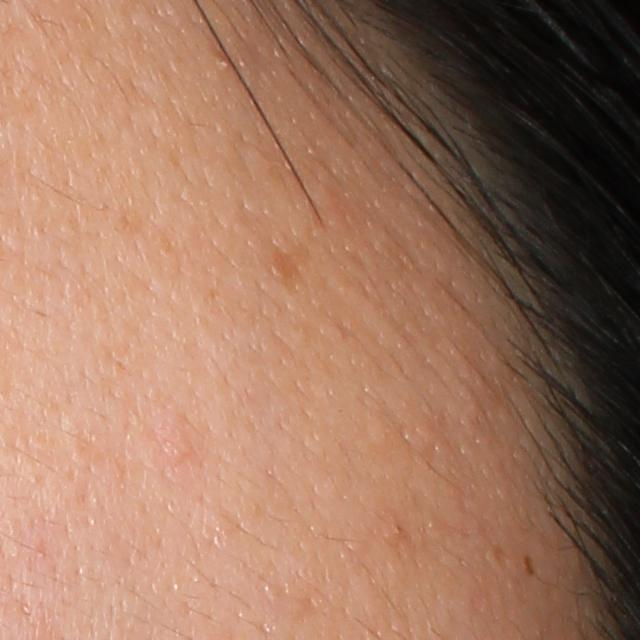nevus: (520, 550, 539, 578)
